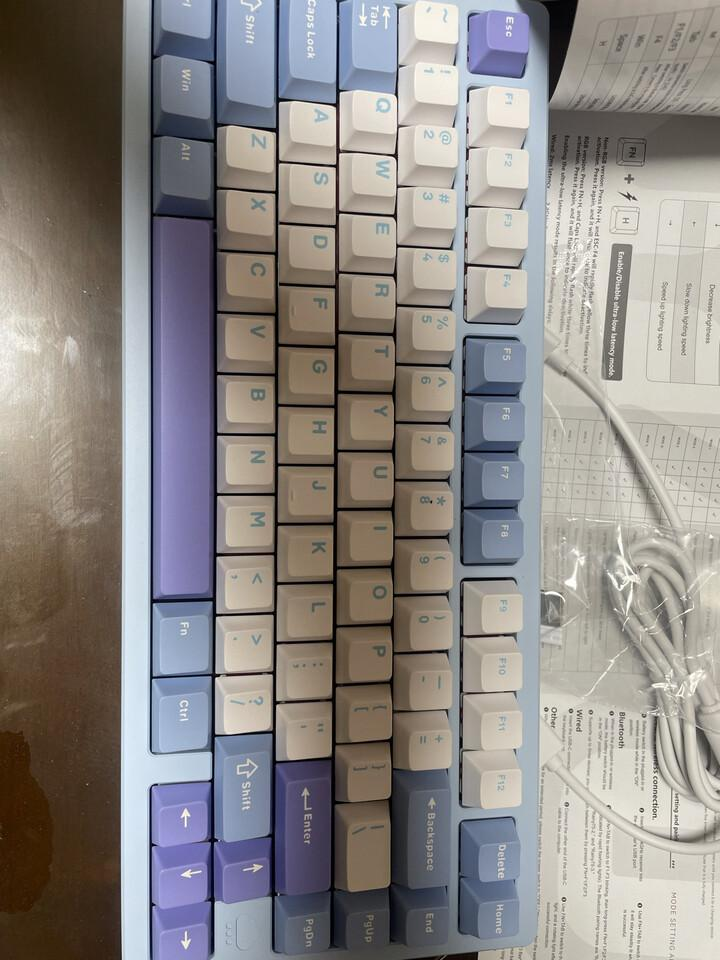keyboard: (119, 0, 549, 959)
